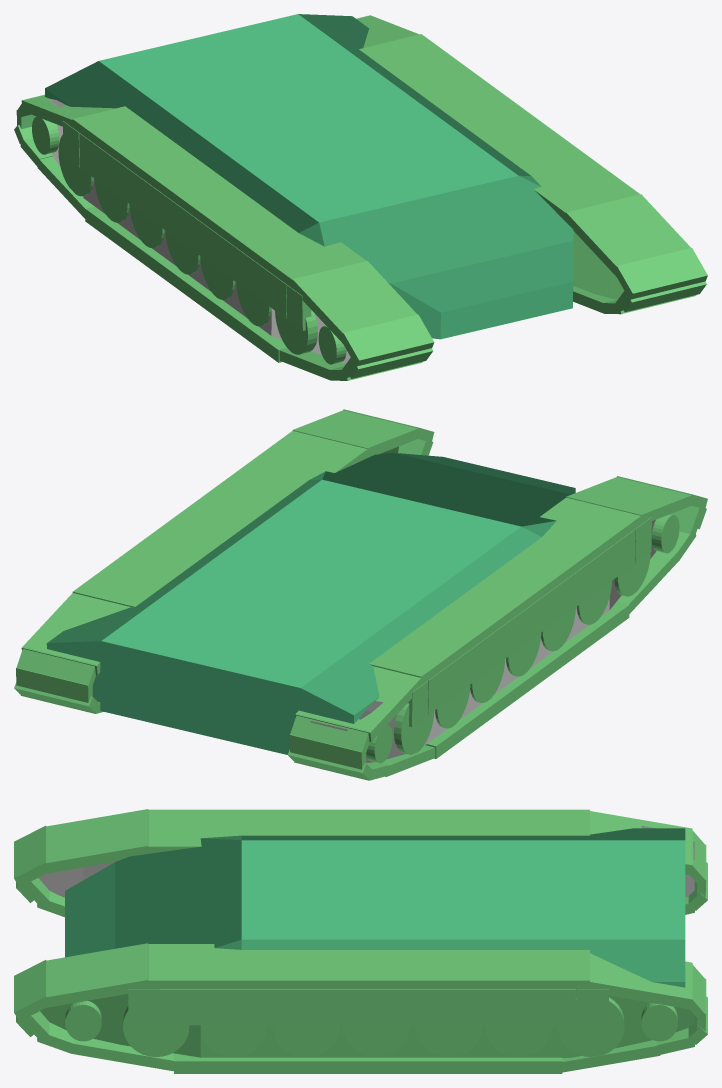
The model's file is TankChassis.obj.
The picture shows the model from 3 angles, top to bottom: view 1: azimuth 30°, elevation 25°; view 2: azimuth 150°, elevation 25°; view 3: azimuth 270°, elevation 25°; orthographic projection.
Visible parts, largest first — view 1: Cube, Cube.003, Cube.030, Cube.032, Cube.005, Cube.028, Cube.029, Cube.024, Cube.009, Cube.001, Cube.002, Cube.026 (+17 smaller); view 2: Cube, Cube.003, Cube.030, Cube.032, Cube.029, Cube.005, Cube.028, Cube.007, Cube.026, Cube.001, Cube.013, Cube.020 (+18 smaller); view 3: Cube, Cube.003, Cube.031, Cube.030, Cube.002, Cube.004, Cube.005, Cube.028, Cube.007, Cylinder.017, Cylinder.016, Cylinder.013 (+20 smaller).
Boxes of the visible parts, x1,y1,x2,y2 form: Cube: (45, 14, 573, 339); Cube.003: (359, 34, 639, 220); Cube.030: (72, 106, 366, 288); Cube.032: (79, 133, 286, 318); Cube.005: (565, 194, 690, 276); Cube.028: (292, 261, 417, 343); Cube.029: (85, 206, 287, 362); Cube.024: (341, 314, 434, 366); Cube.009: (614, 248, 707, 299); Cube.001: (48, 98, 397, 363); Cube.002: (573, 231, 665, 299); Cube.026: (21, 94, 115, 128); Cube: (46, 452, 575, 754); Cube.003: (72, 431, 368, 606); Cube.030: (369, 497, 640, 685); Cube.032: (428, 529, 635, 714); Cube.029: (425, 602, 629, 758); Cube.005: (292, 410, 418, 457); Cube.028: (566, 477, 692, 524); Cube.007: (21, 593, 130, 675); Cube.026: (295, 666, 421, 741); Cube.001: (310, 520, 656, 762); Cube.013: (16, 647, 95, 687); Cube.020: (290, 714, 369, 754); Cube: (65, 828, 685, 987); Cube.003: (146, 944, 589, 990); Cube.031: (160, 989, 575, 1025); Cube.030: (146, 809, 589, 853); Cube.002: (40, 991, 694, 1057); Cube.004: (174, 1053, 562, 1073); Cube.005: (45, 943, 149, 1007); Cube.028: (46, 809, 149, 873); Cube.007: (588, 953, 692, 1009); Cylinder.017: (558, 997, 624, 1056); Cylinder.016: (123, 1006, 189, 1056); Cylinder.013: (273, 1025, 339, 1056).
Bounding box in the file's own units: 4.36 × 1.16 × 7.42.
